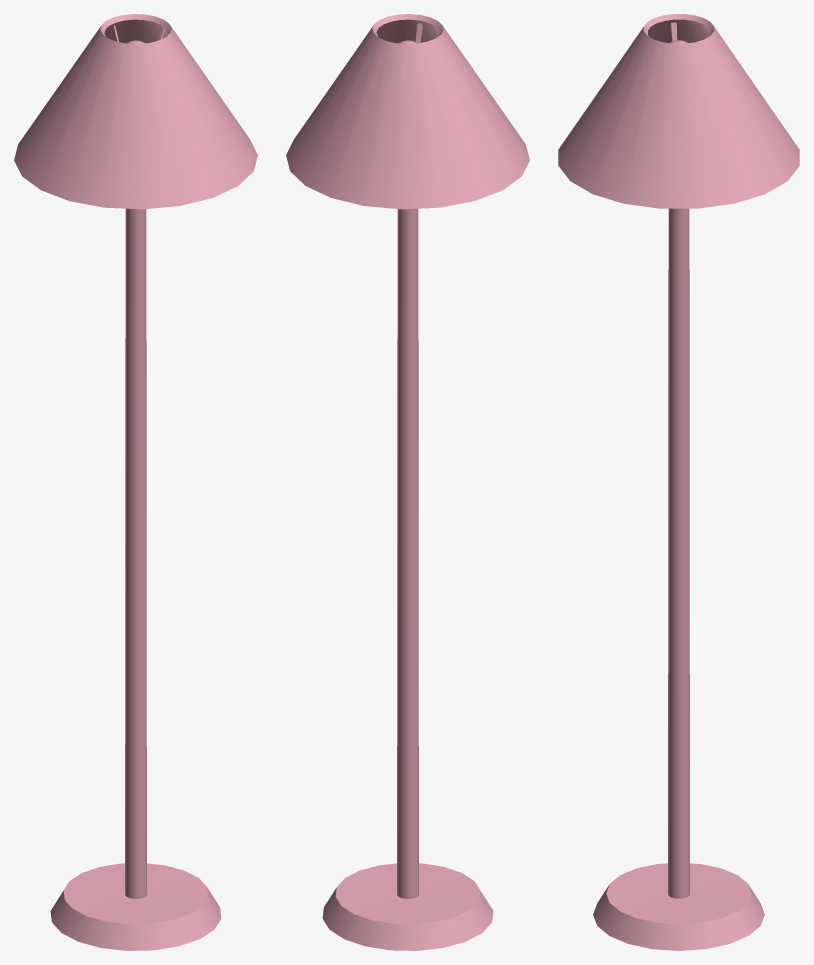
Rendered from FloorLamp.fbx.
The picture shows the model from 3 angles, left to right: view 1: azimuth 30°, elevation 25°; view 2: azimuth 150°, elevation 25°; view 3: azimuth 270°, elevation 25°; orthographic projection.
Visible parts, largest first — view 1: FloorLamp; view 2: FloorLamp; view 3: FloorLamp.
Part boxes in pixels (<box>): FloorLamp: <box>14,14,257,950</box>; FloorLamp: <box>286,14,529,950</box>; FloorLamp: <box>558,14,799,950</box>.
Bounding box in the file's own units: 44.71 × 181 × 44.71.
